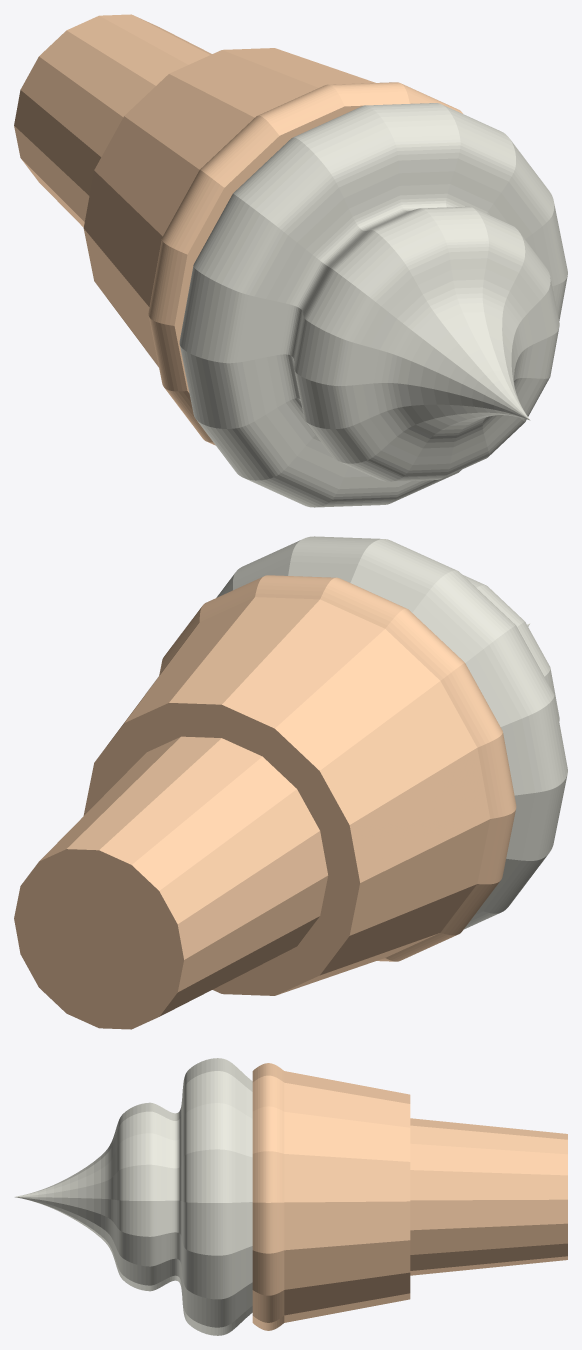
Rendered from ICECREAM.glb.
3 views of the same model, one above another, from view 1: azimuth 30°, elevation 25°; view 2: azimuth 150°, elevation 25°; view 3: azimuth 270°, elevation 25° (orthographic). The views are drawn at different scales.
Visible parts, largest first — view 1: _0; view 2: _0; view 3: _0.
Boxes of the visible parts, x1,y1,x2,y2 form: _0: (14, 14, 567, 507); _0: (14, 536, 567, 1029); _0: (15, 1058, 567, 1335).
Bounding box in the file's own units: 2.81 × 2.81 × 5.59.
